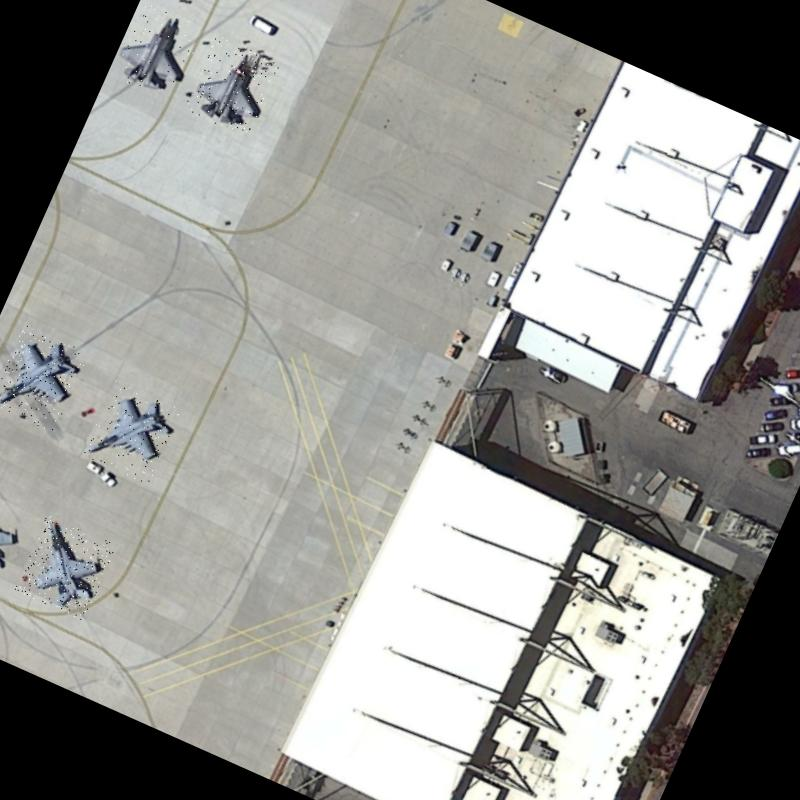A15: (184, 35, 282, 139), (110, 0, 205, 102)
A16: (14, 514, 118, 622), (82, 380, 182, 486), (0, 324, 89, 433), (0, 475, 37, 586)
